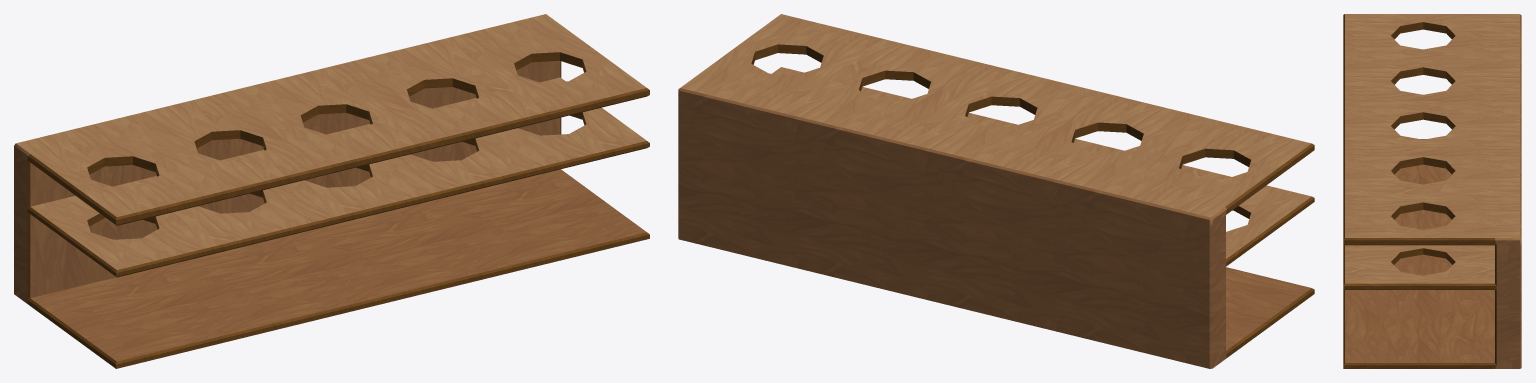
Rendered from tube_bag.fbx.
3 renders of one model, left to right at view 1: azimuth 30°, elevation 25°; view 2: azimuth 150°, elevation 25°; view 3: azimuth 270°, elevation 25°, orthographic. The views are drawn at different scales.
Visible parts, largest first — view 1: tube_bag:pCube8; view 2: tube_bag:pCube8; view 3: tube_bag:pCube8.
Boxes of the visible parts, x1=… form: tube_bag:pCube8: x1=14, y1=14, x2=649, y2=368; tube_bag:pCube8: x1=678, y1=14, x2=1314, y2=368; tube_bag:pCube8: x1=1343, y1=14, x2=1521, y2=368.
Size of the model in its own units: 20 by 5.39 by 6.69.
